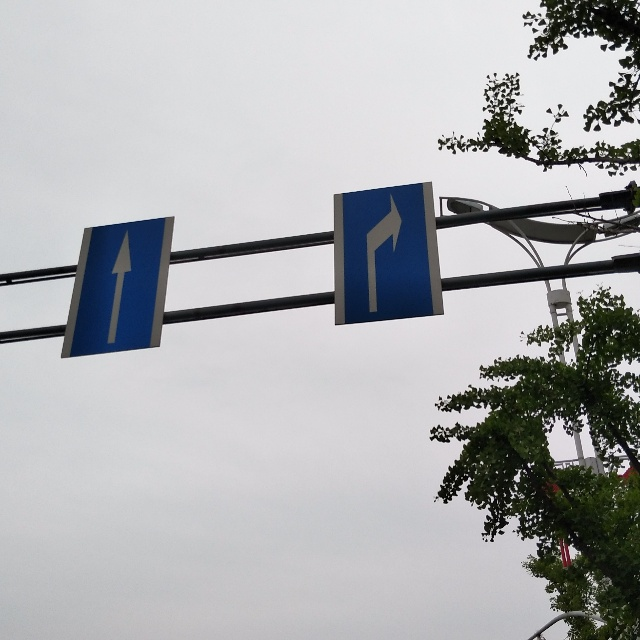right: (333, 181, 445, 327)
straight: (60, 216, 176, 361)
